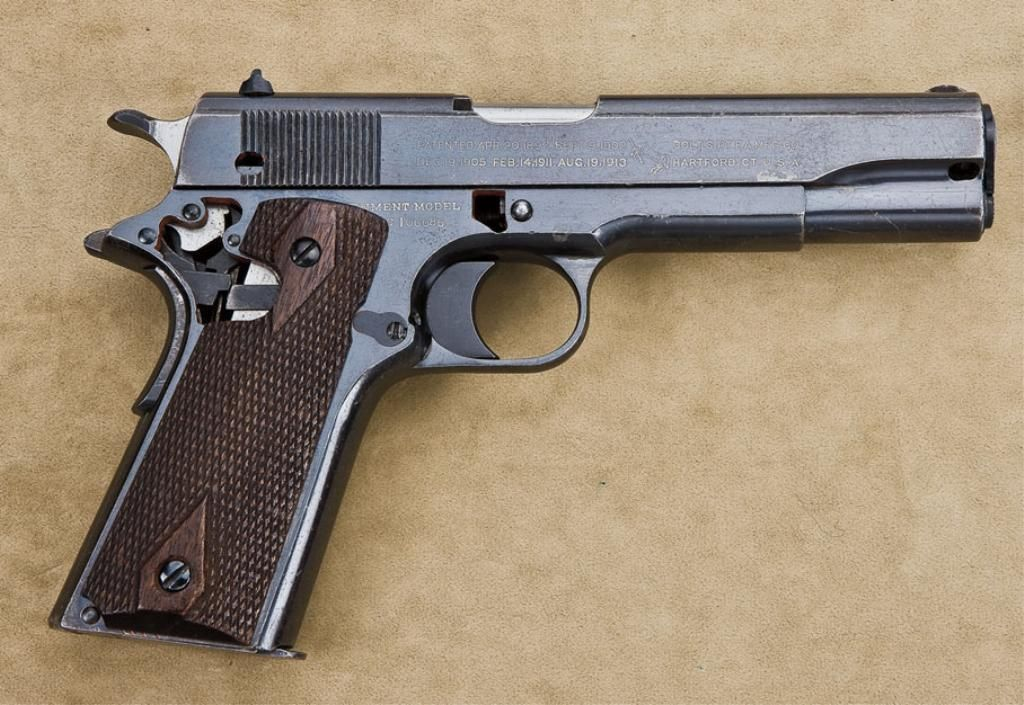Arma Real: (46, 65, 996, 666)
